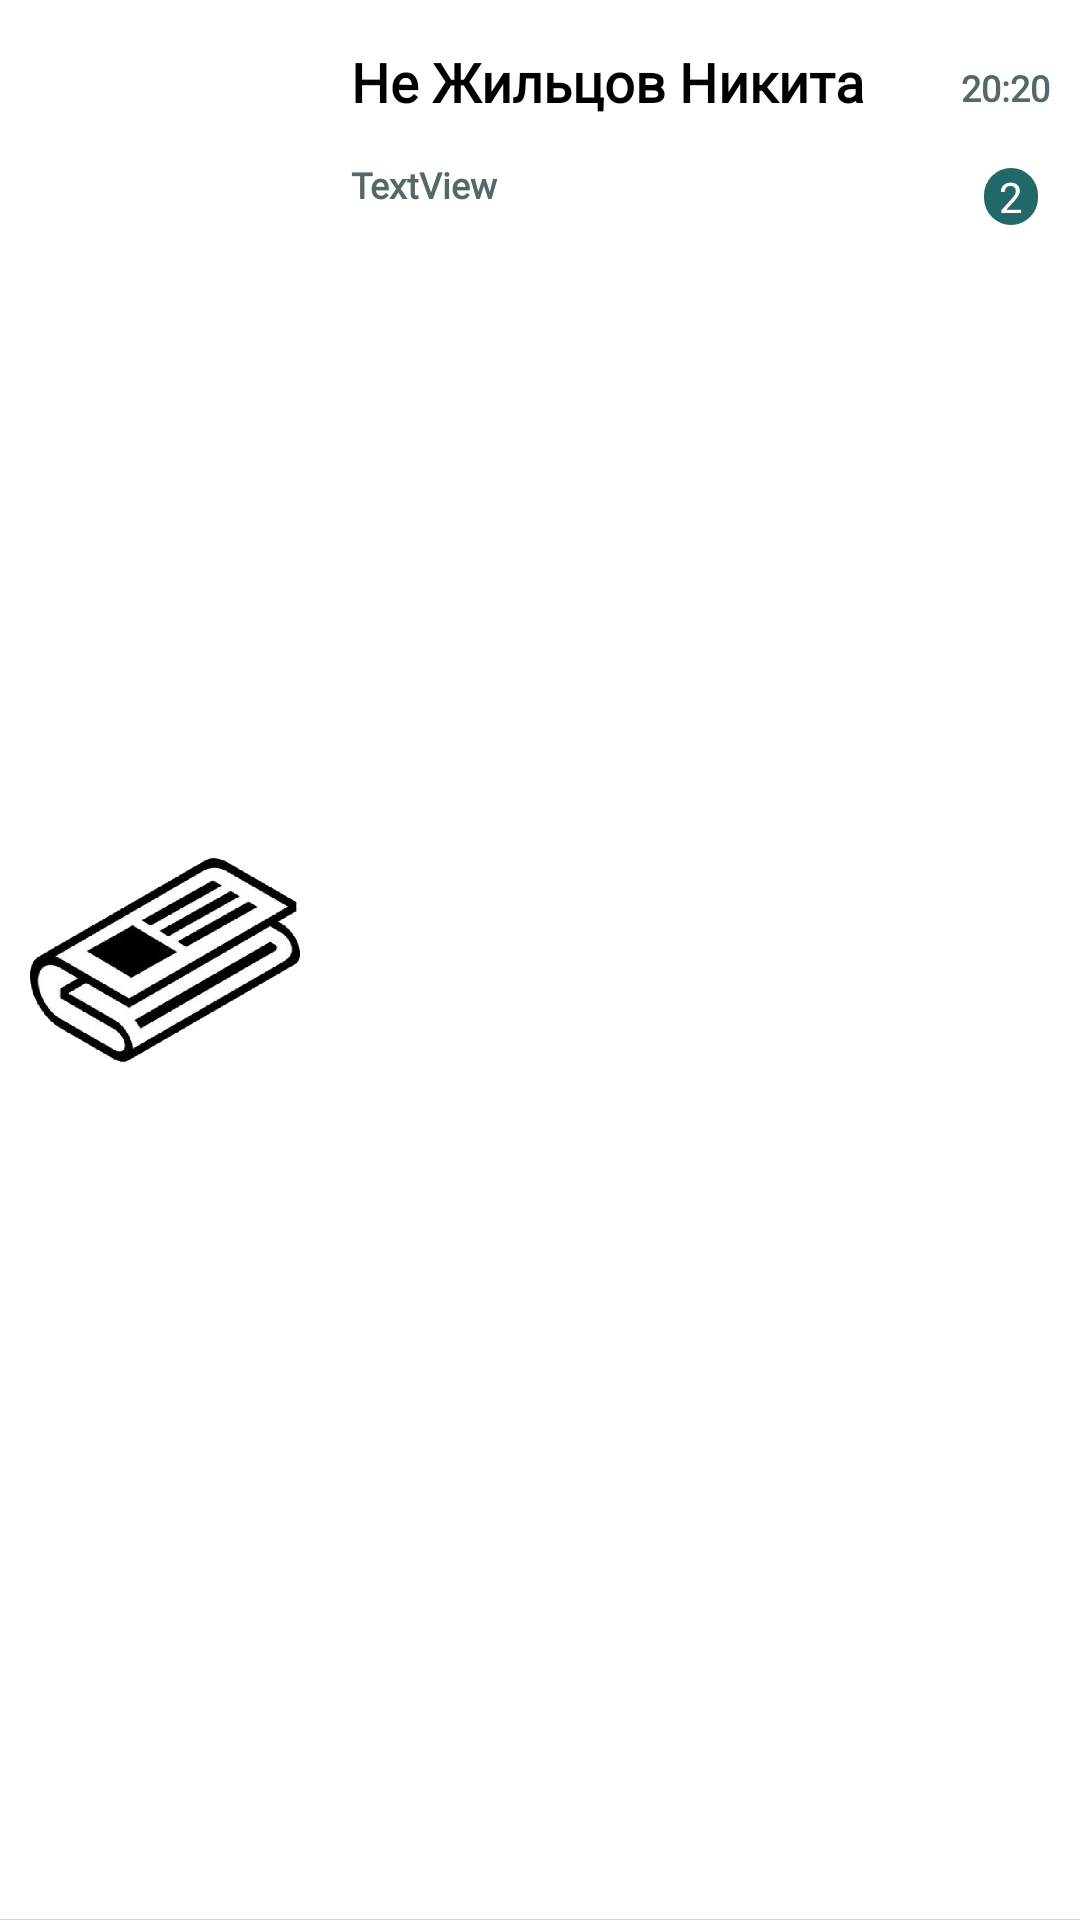

Icon bounding boxes for this 1080px×1920px phone screenshot, format (x1, y1, x2, y2):
advert: (30, 857, 300, 1062)
